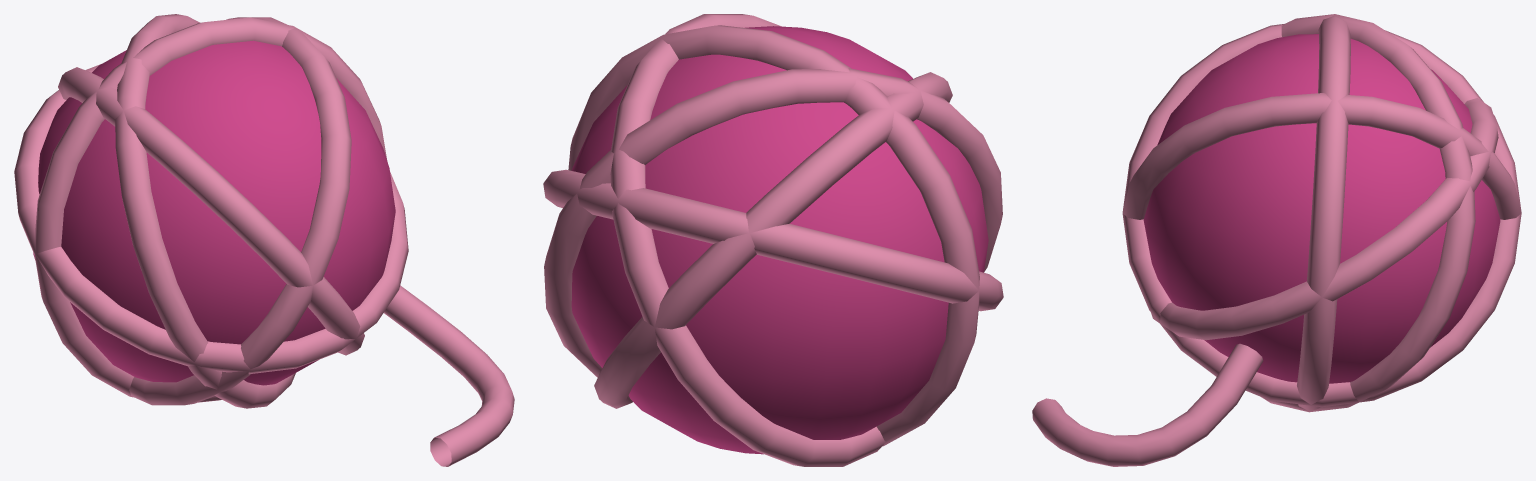
File: yarn_ball.glb
3 renders of one model, left to right at view 1: azimuth 30°, elevation 25°; view 2: azimuth 150°, elevation 25°; view 3: azimuth 270°, elevation 25°, orthographic. The views are drawn at different scales.
Parts seen in each view (by area): view 1: yarn_ball; view 2: yarn_ball; view 3: yarn_ball.
Part boxes in pixels (box(x1,y1,x2,y2)): yarn_ball: box(14, 14, 514, 466); yarn_ball: box(543, 14, 1003, 466); yarn_ball: box(1032, 14, 1521, 466).
Size of the model in its own units: 0.5914 by 0.5506 by 0.6768.
